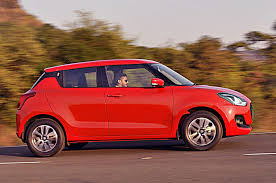Swift: (12, 56, 258, 153)
